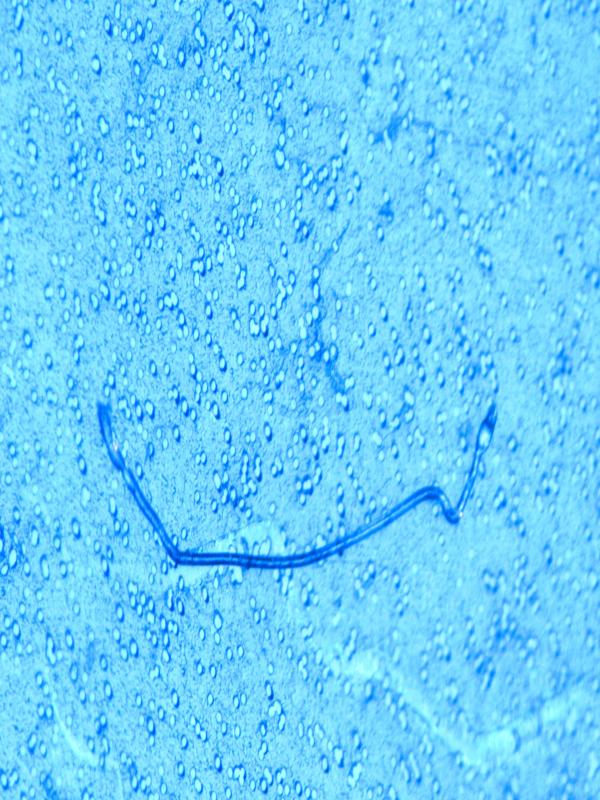microplastic: (1, 1, 599, 798), (95, 394, 499, 573)
